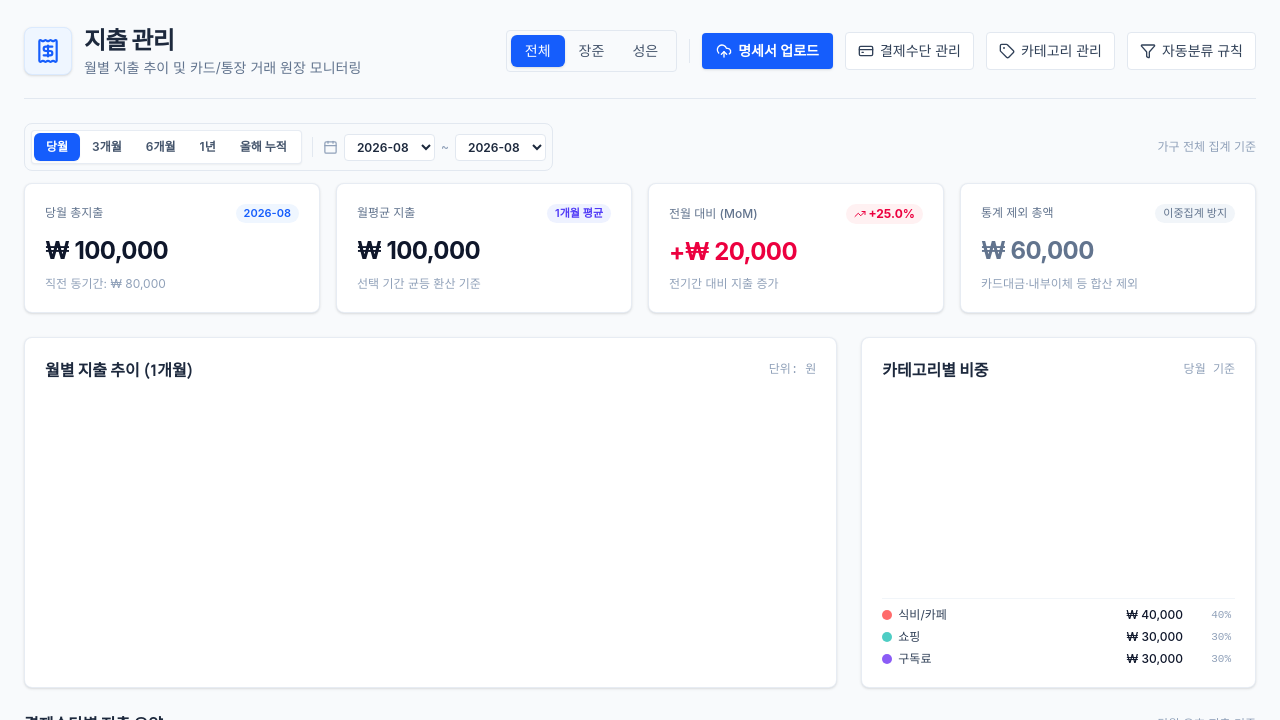
Test: ExpensesPage 컴포넌트 테스트 › 자동분류 규칙 버튼 클릭 시 자동분류 규칙 모달이 열려야 한다
The width and height of the screenshot is (1280, 720).
Click the button "자동분류 규칙".
click(1192, 51)  # box [1127, 32, 1256, 70]
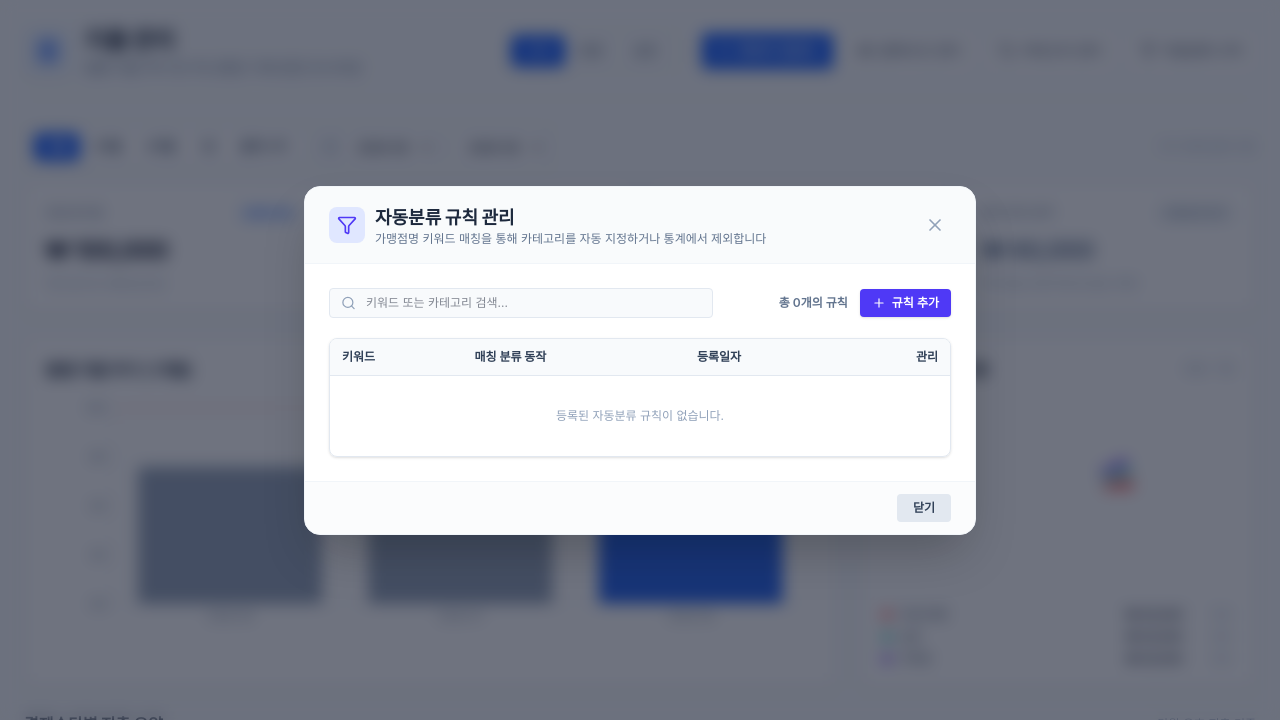
Now the element with test id "expense-rules-modal" is shown
Now the heading "자동분류 규칙 관리" is shown, box [375, 204, 515, 228]
